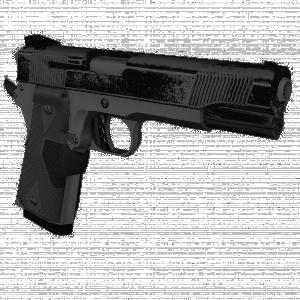handgun: (14, 36, 294, 262)
